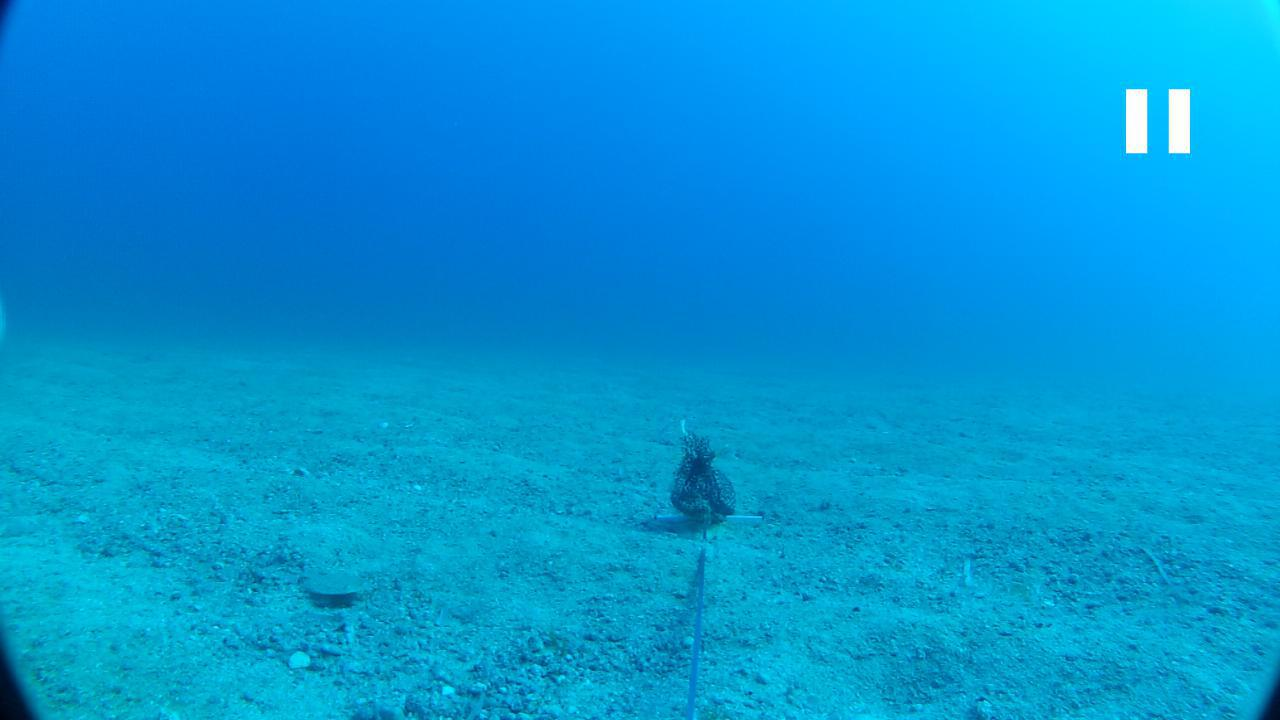bothus: (292, 565, 367, 606)
